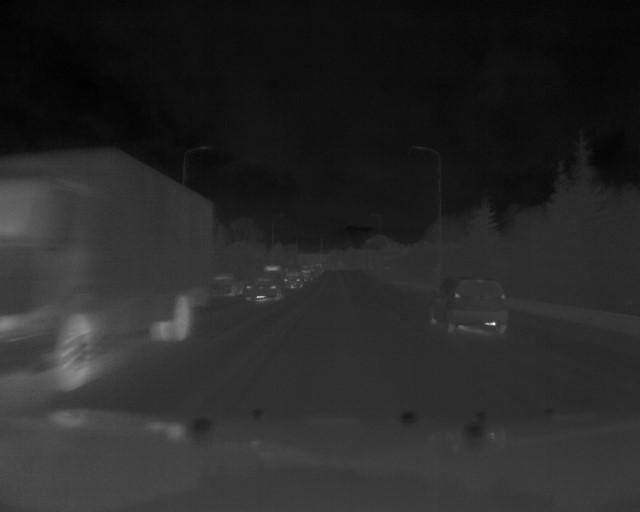car: (1, 144, 217, 390), (430, 272, 515, 340), (239, 273, 285, 305), (280, 270, 306, 290)
